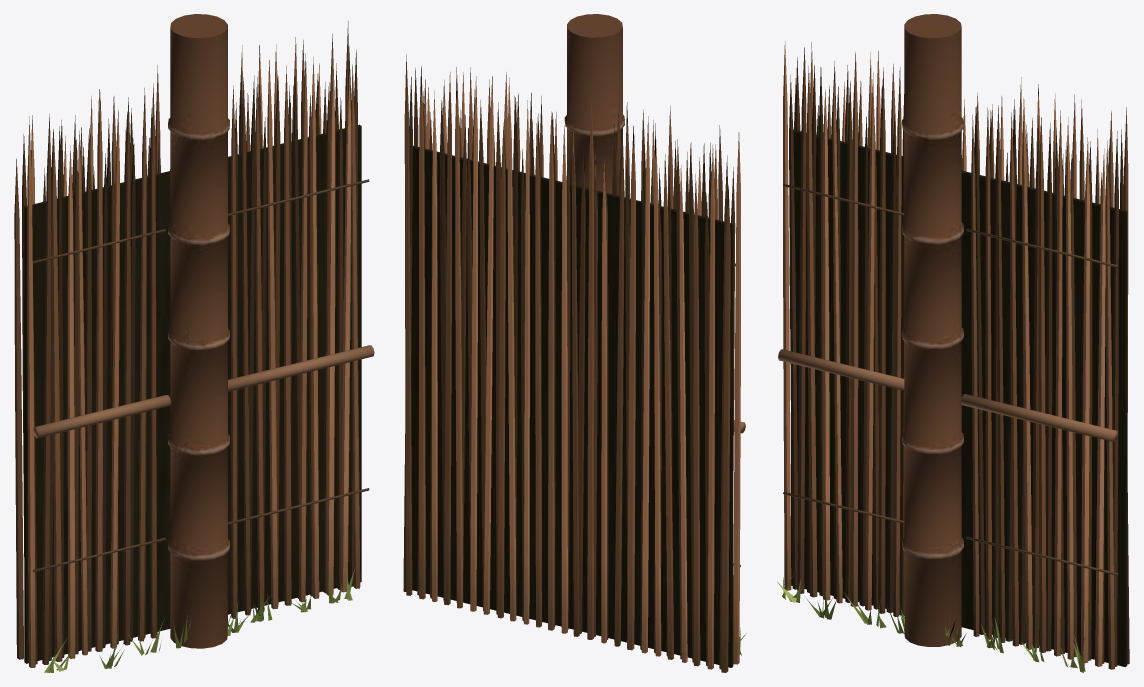
Rendered from fence_reed_post_hd.glb.
3 views of the same model, side by side, from view 1: azimuth 30°, elevation 25°; view 2: azimuth 150°, elevation 25°; view 3: azimuth 330°, elevation 25° (orthographic). The views are drawn at different scales.
Parts seen in each view (by area): view 1: fence_reed_post; view 2: fence_reed_post; view 3: fence_reed_post.
Boxes of the visible parts, x1,y1,x2,y2 form: fence_reed_post: (14,14,374,672); fence_reed_post: (403,14,746,672); fence_reed_post: (777,14,1129,672).
Bounding box in the file's own units: 1.01 × 1.74 × 0.2076.
Materials: 1 (1 with a texture image).
